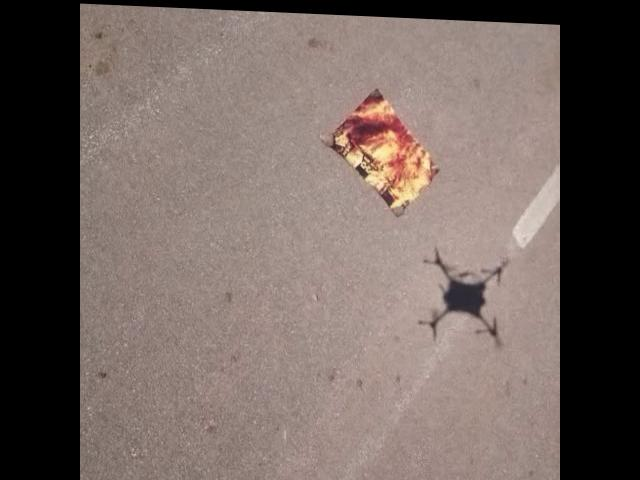fire-poster: (321, 81, 442, 215)
